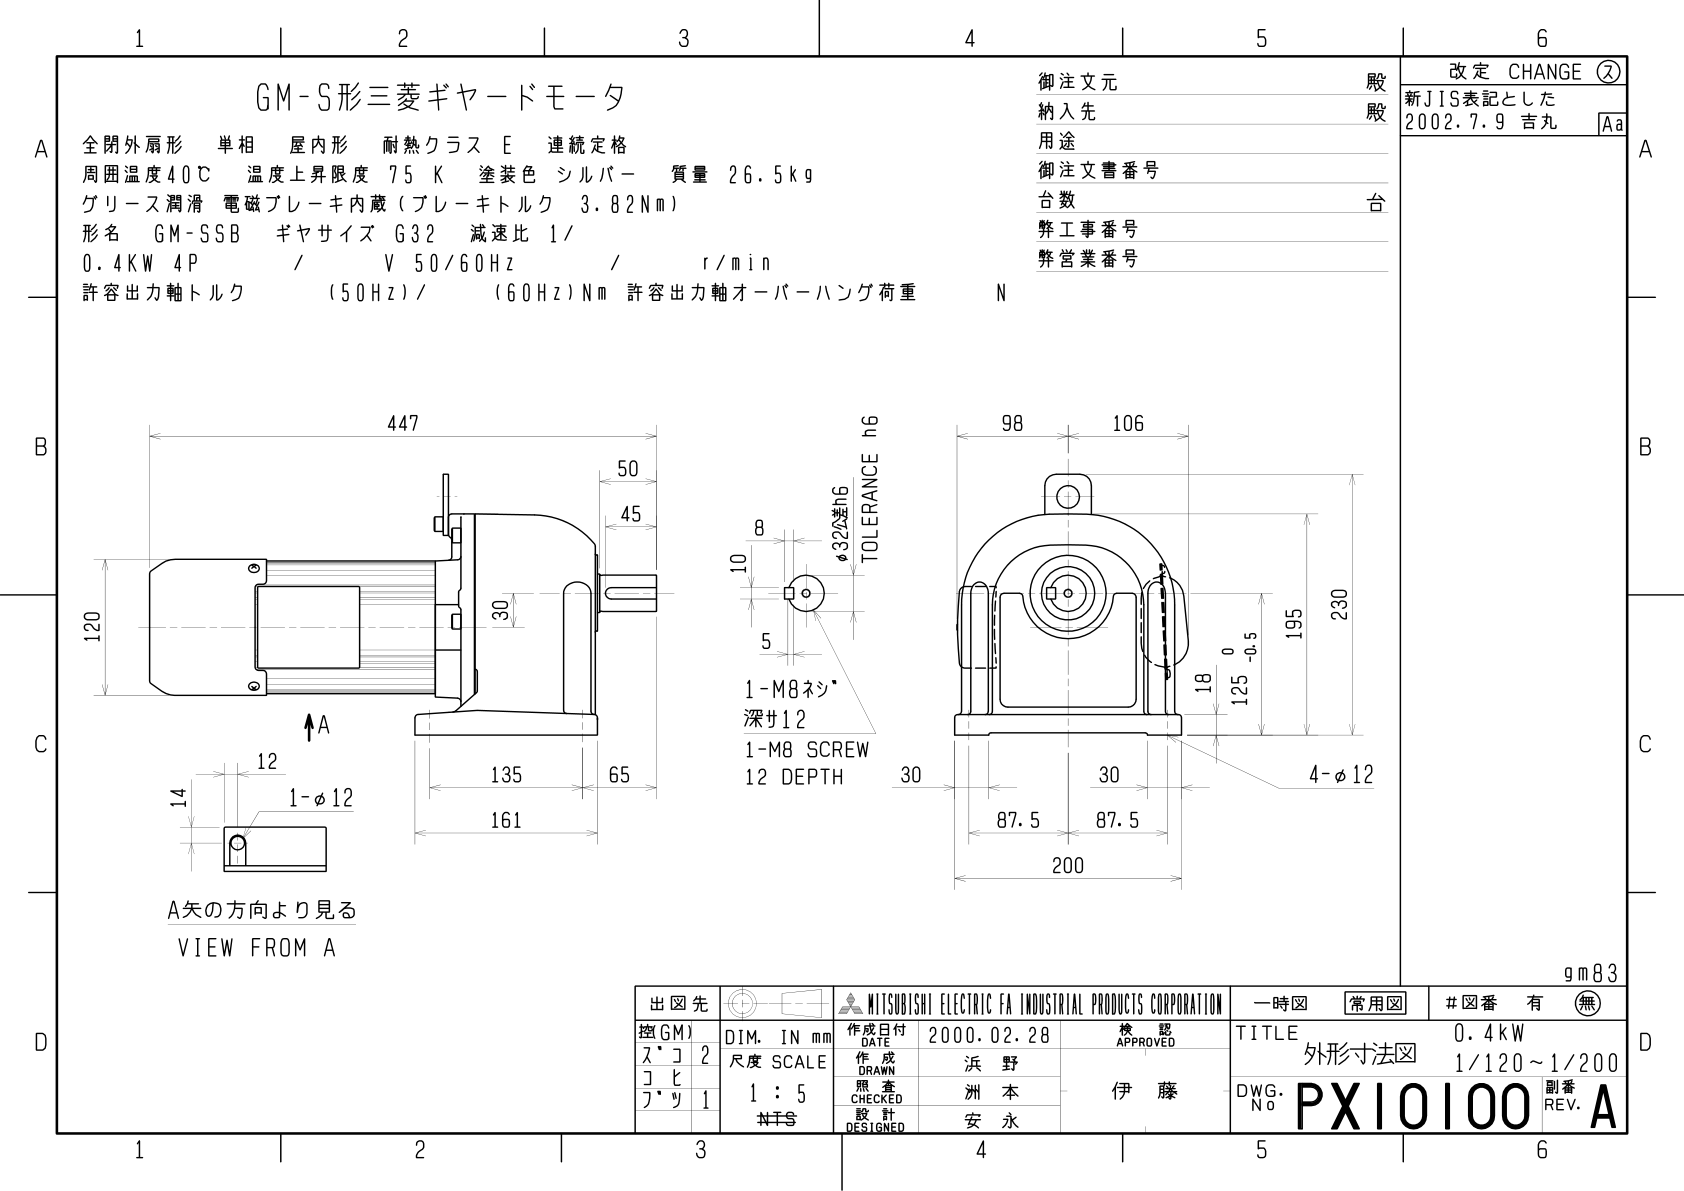GM_S_屋内＿三相_脚: (71, 375, 1385, 969)
